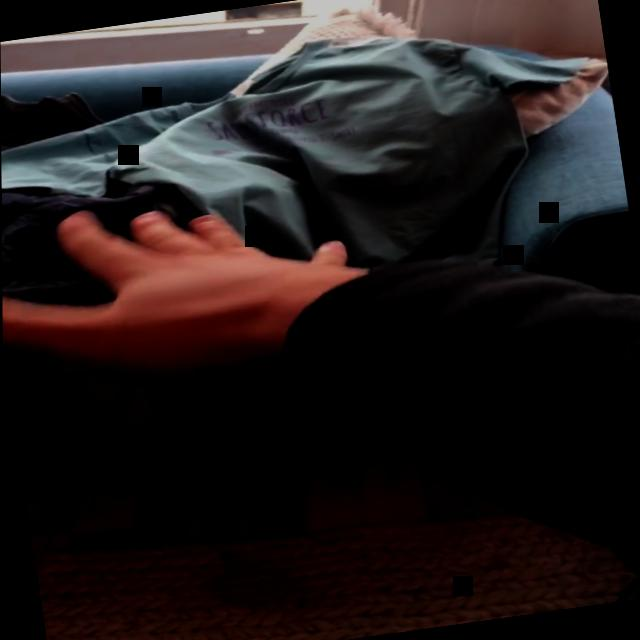Paper: (1, 173, 380, 394)
